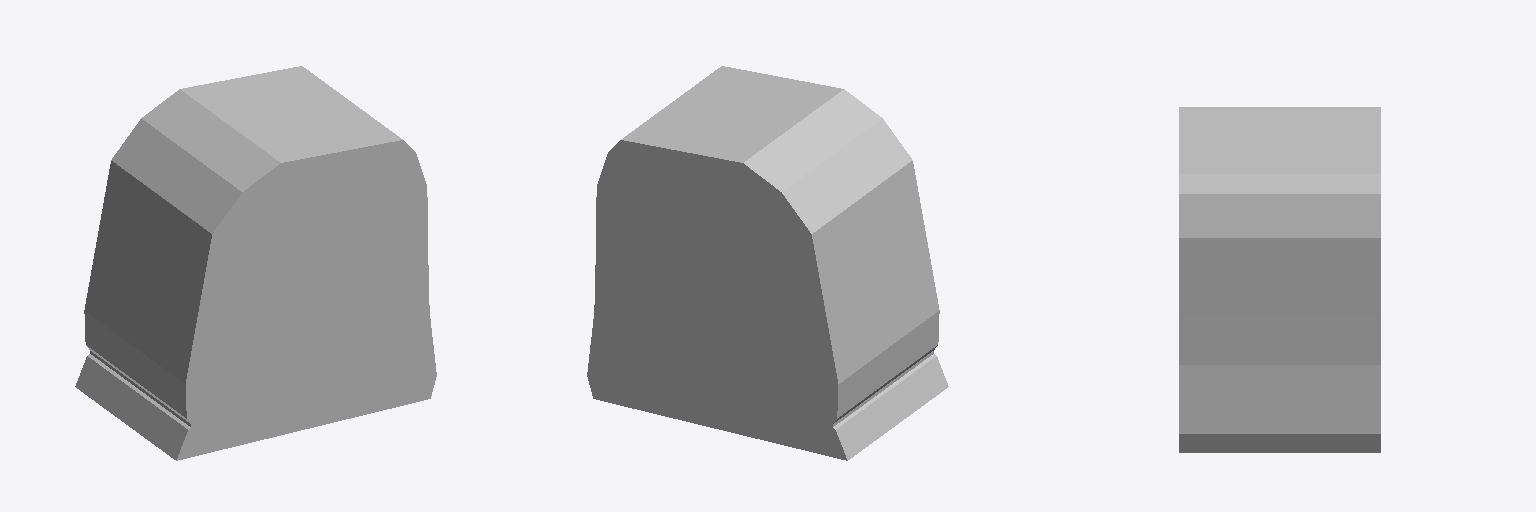
File: roughMechHead.obj
3 views of the same model, side by side, from view 1: azimuth 30°, elevation 25°; view 2: azimuth 150°, elevation 25°; view 3: azimuth 270°, elevation 25° (orthographic).
Visible parts, largest first — view 1: Cube_Cube.003; view 2: Cube_Cube.003; view 3: Cube_Cube.003.
Part boxes in pixels (x1,y1,x2,y2): Cube_Cube.003: (75, 66, 436, 460); Cube_Cube.003: (587, 66, 948, 460); Cube_Cube.003: (1179, 107, 1380, 452).
Size of the model in its own units: 0.5338 by 0.533 by 0.3589.